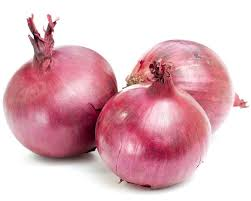onion: (2, 13, 116, 157), (93, 80, 213, 189)
